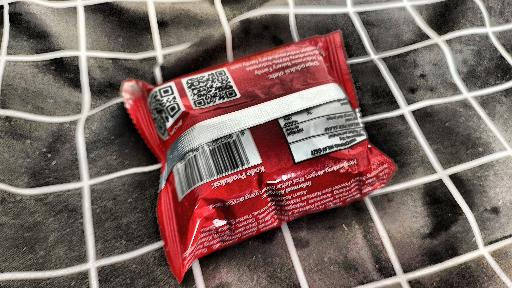momotaro: (54, 25, 399, 206)
